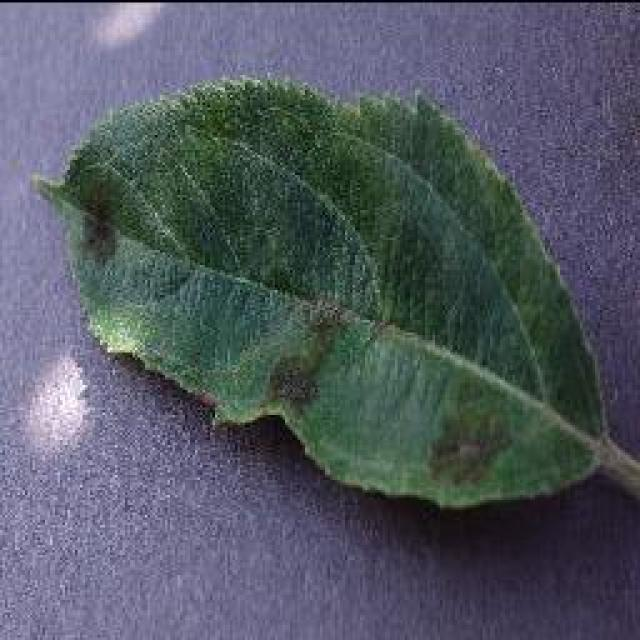apple scab disease: (30, 73, 638, 525)
